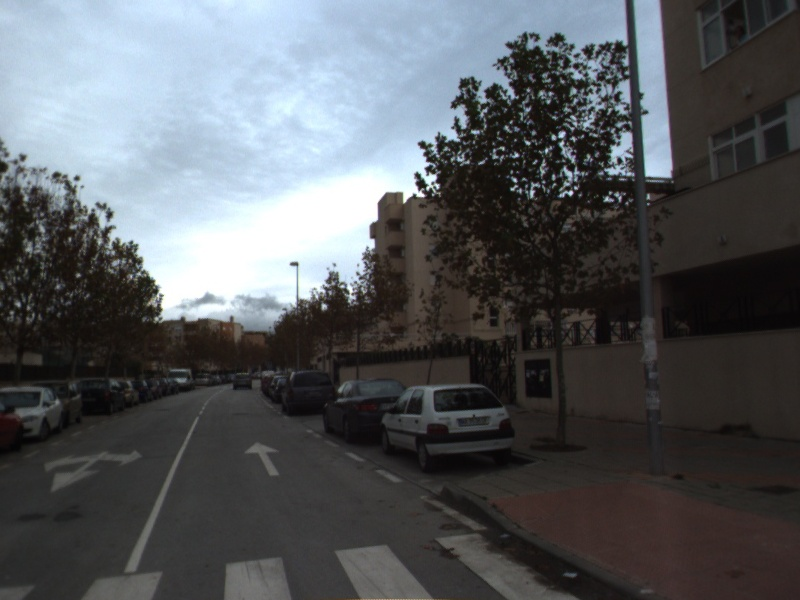STRAIGHT: (242, 440, 283, 478)
